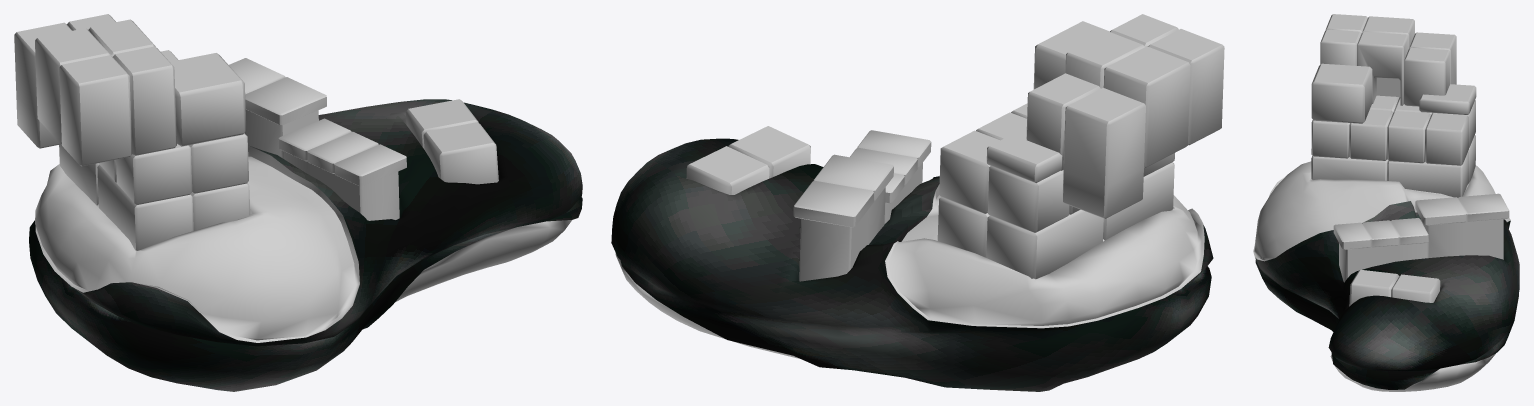
Rendered from broadbeanplanetc.dae.
3 renders of one model, left to right at view 1: azimuth 30°, elevation 25°; view 2: azimuth 150°, elevation 25°; view 3: azimuth 270°, elevation 25°, orthographic. The views are drawn at different scales.
Parts seen in each view (by area): view 1: n1b0, n0b1, n2b2; view 2: n1b0, n0b1, n2b2; view 3: n1b0, n0b1, n2b2.
Boxes of the visible parts, x1,y1,x2,y2 form: n1b0: (14,14,498,250); n0b1: (29,99,582,391); n2b2: (35,145,571,342); n1b0: (686,14,1224,281); n0b1: (611,138,1213,391); n2b2: (615,184,1204,358); n1b0: (1311,14,1509,306); n0b1: (1255,201,1519,389); n2b2: (1253,161,1510,391).
Size of the model in its own units: 3324 by 2000 by 2042.
